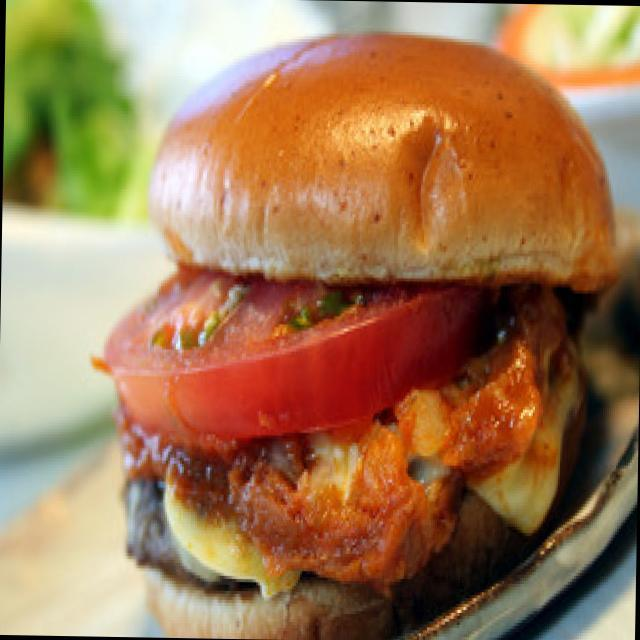Hamburger: (94, 17, 633, 640)
